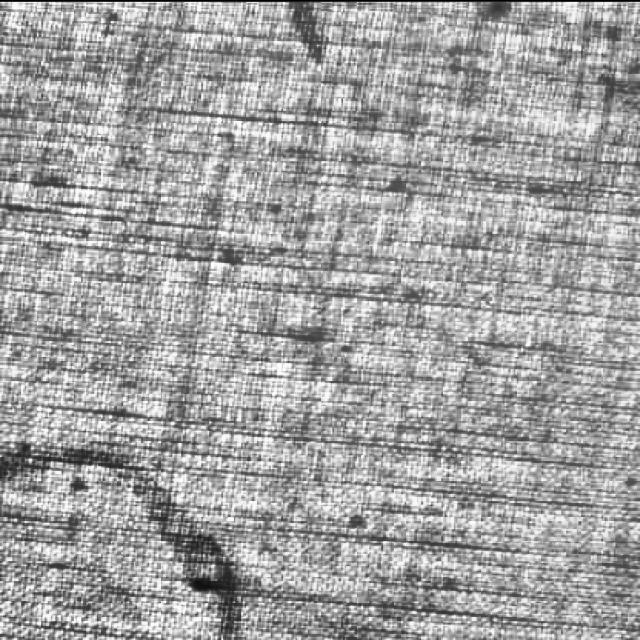oil_spot: (0, 417, 249, 640), (288, 0, 336, 71)
